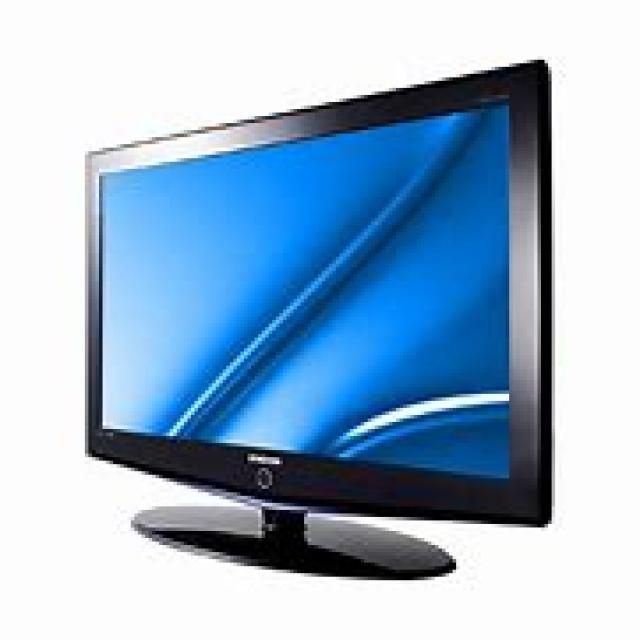tv: (81, 56, 552, 580)
